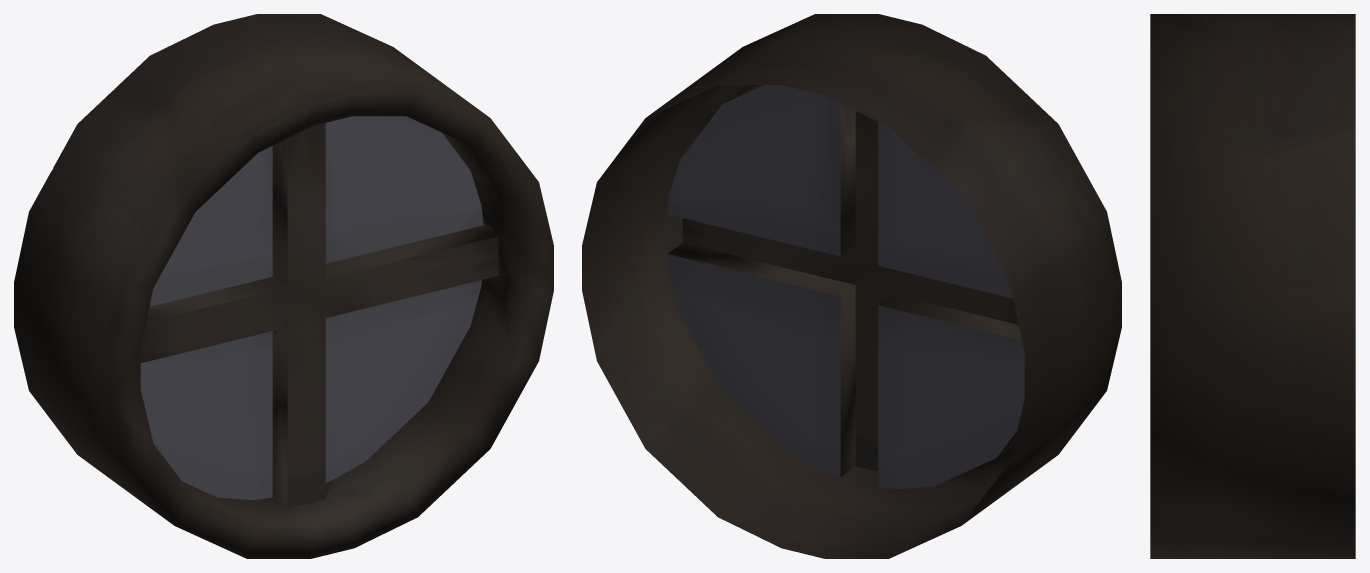
The model's file is Window1.fbx.
The picture shows the model from 3 angles, left to right: view 1: azimuth 30°, elevation 25°; view 2: azimuth 150°, elevation 25°; view 3: azimuth 270°, elevation 25°; orthographic projection. The views are drawn at different scales.
Visible parts, largest first — view 1: Cylinder; view 2: Cylinder; view 3: Cylinder.
Boxes of the visible parts, box(x1,y1,x2,y2) form: Cylinder: box(14, 14, 553, 558); Cylinder: box(582, 14, 1121, 558); Cylinder: box(1150, 14, 1355, 558).
Bounding box in the file's own units: 1.52 × 1.52 × 0.5774.
